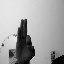f: (15, 16, 37, 62)
